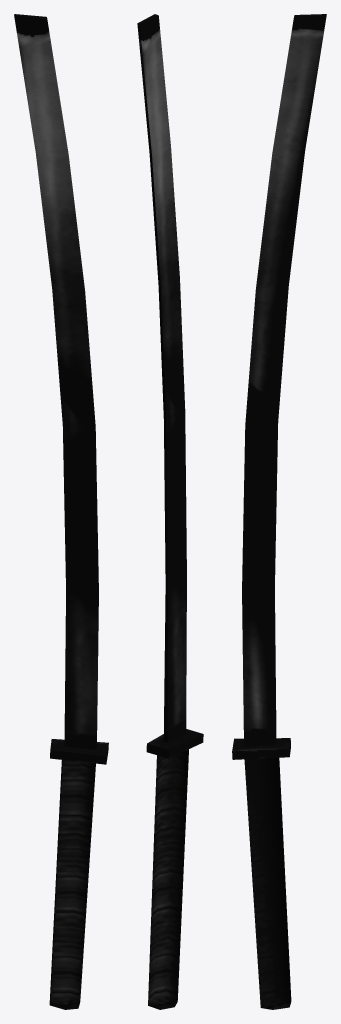
Rendered from Right_hand_Sword.fbx.
3 views of the same model, side by side, from view 1: azimuth 90°, elevation 25°; view 2: azimuth 150°, elevation 25°; view 3: azimuth 270°, elevation 25° (orthographic).
Parts seen in each view (by area): view 1: Right_hand_Sword; view 2: Right_hand_Sword; view 3: Right_hand_Sword.
Boxes of the visible parts, bbox=[...] form: Right_hand_Sword: bbox=[14, 14, 108, 1009]; Right_hand_Sword: bbox=[137, 14, 203, 1009]; Right_hand_Sword: bbox=[232, 14, 326, 1009].
Bounding box in the file's own units: 3.25 × 103 × 8.92.
